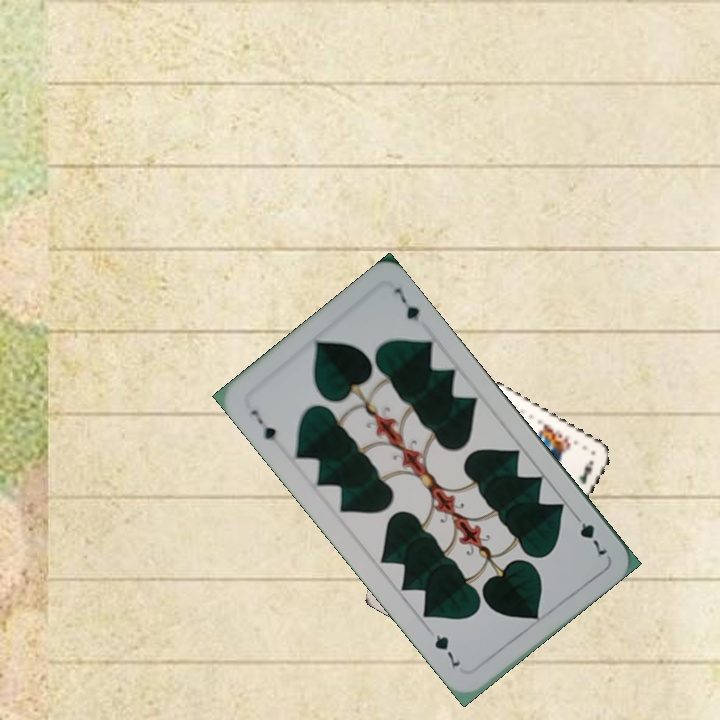G7: (569, 508, 610, 562), (246, 405, 285, 450)
